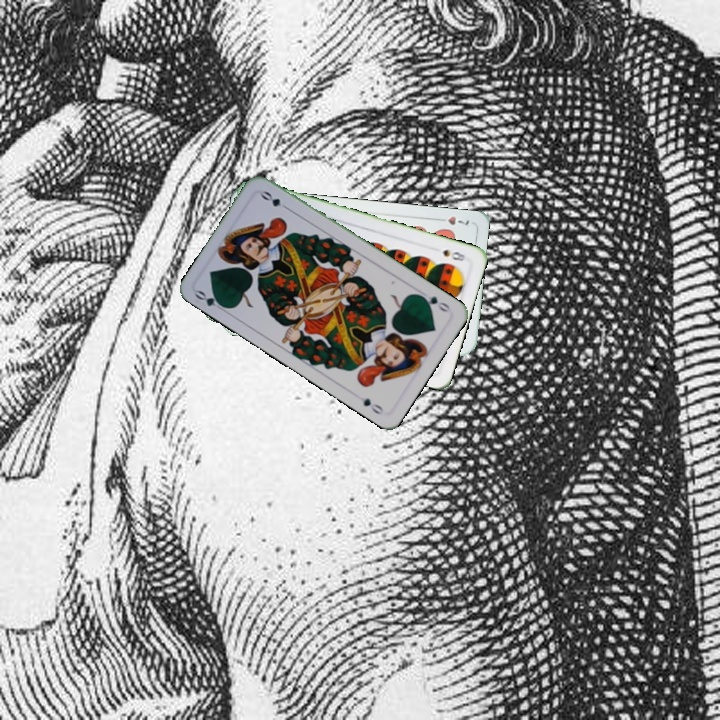GO: (191, 286, 230, 315), (415, 291, 453, 315)
H7: (433, 212, 472, 228)
S8: (439, 245, 468, 264)
